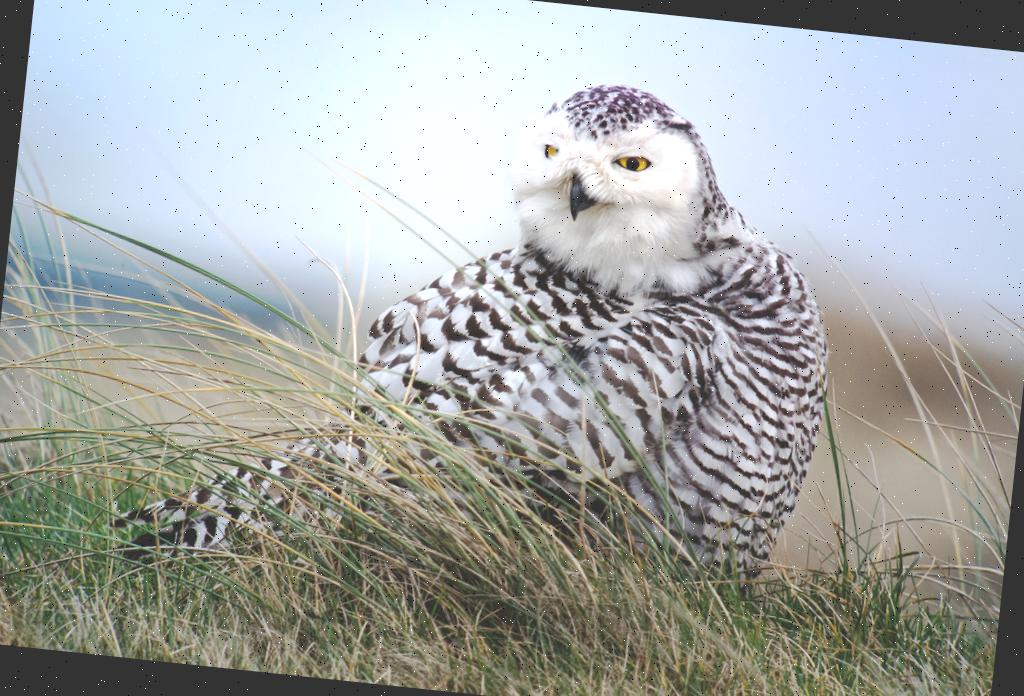Owl: (112, 33, 858, 612)
